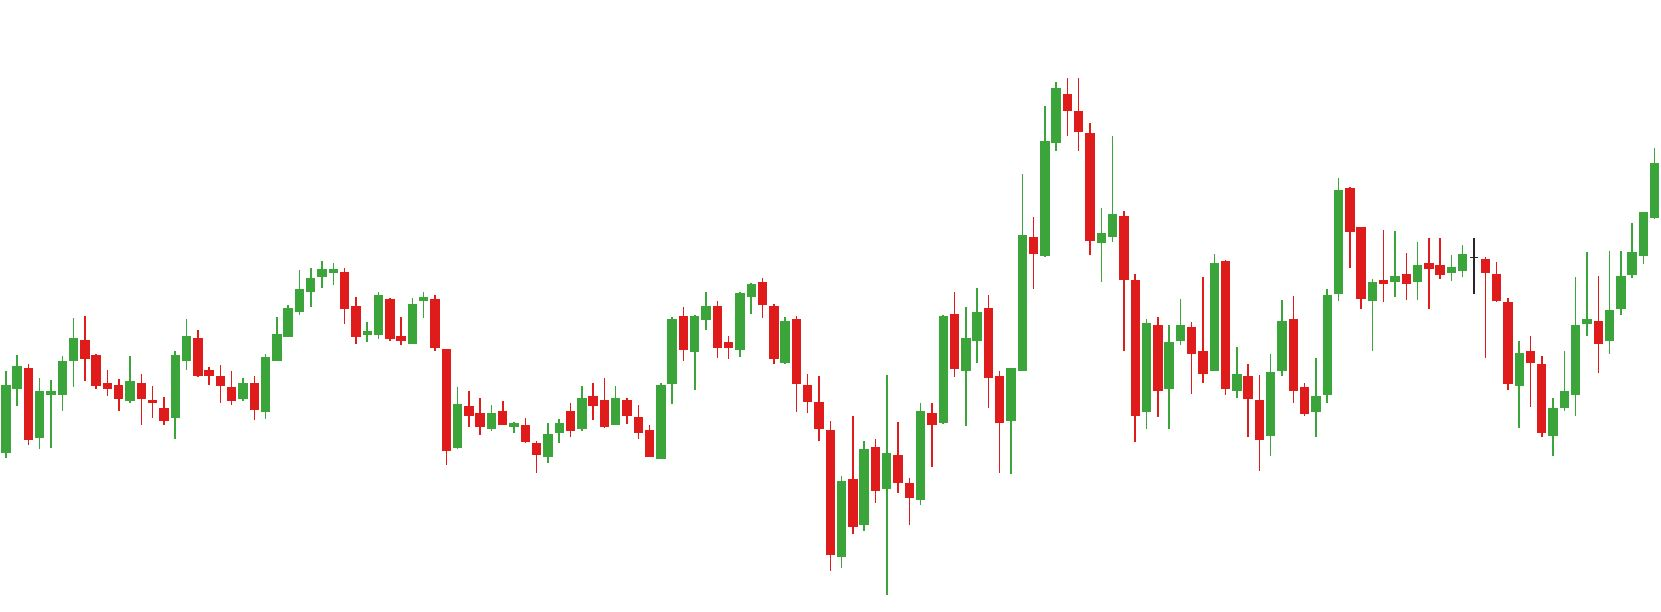buy: (168, 323, 463, 465)
sell: (1205, 175, 1368, 352)
